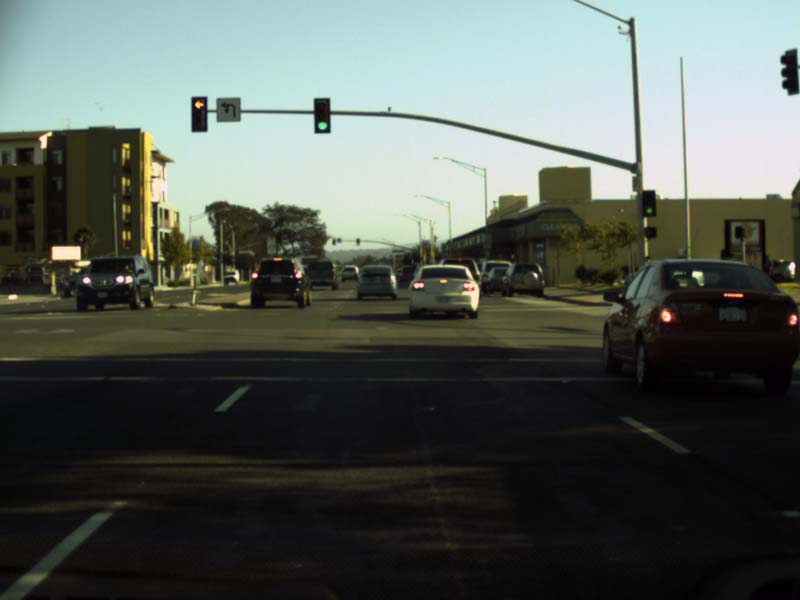Green: (313, 98, 329, 133), (642, 190, 655, 216), (355, 237, 359, 245)
Red: (189, 95, 208, 132), (331, 237, 335, 244)
